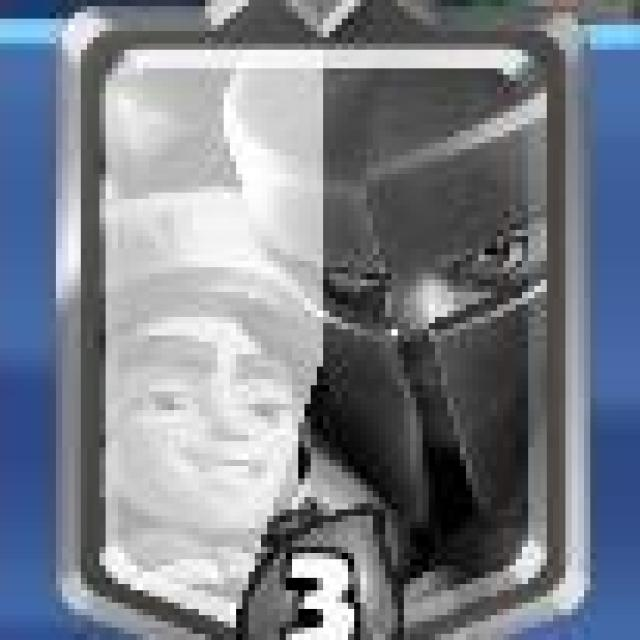Little_Prince: (64, 3, 578, 640)
